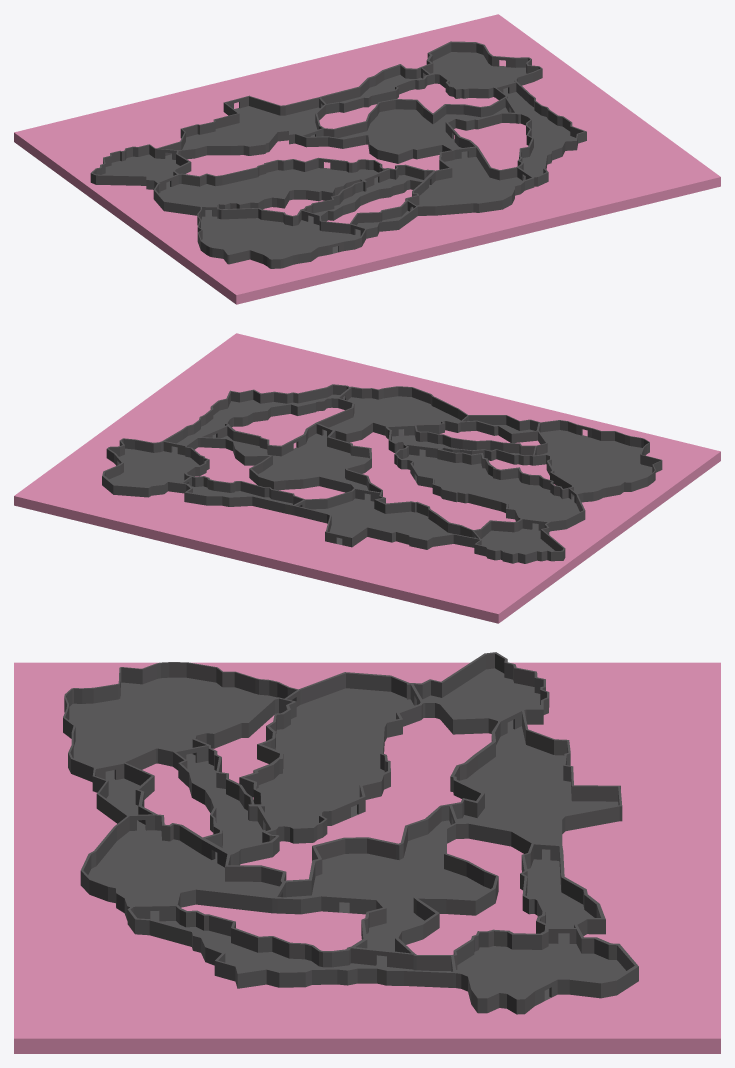
The model's file is TalesLocation2.fbx.
3 renders of one model, top to bottom at view 1: azimuth 30°, elevation 25°; view 2: azimuth 150°, elevation 25°; view 3: azimuth 270°, elevation 25°, orthographic. The views are drawn at different scales.
Parts seen in each view (by area): view 1: Cube, Wall1; view 2: Cube, Wall1; view 3: Cube, Wall1.
Boxes of the visible parts, <box> form: Cube: <box>14,14,720,304</box>; Wall1: <box>90,41,586,268</box>; Cube: <box>14,333,720,623</box>; Wall1: <box>102,384,662,563</box>; Cube: <box>14,662,720,1053</box>; Wall1: <box>63,652,638,1014</box>.
Size of the model in its own units: 26503 by 1010 by 21067.
